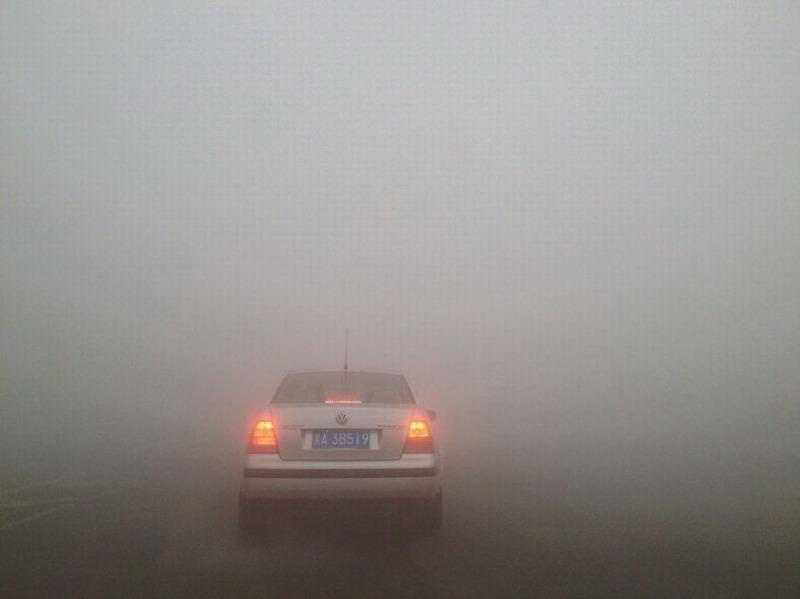car: (243, 364, 444, 523)
